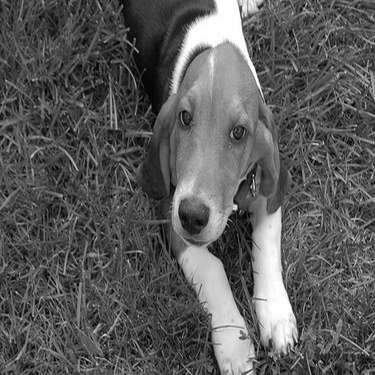dog: (112, 1, 303, 369)
